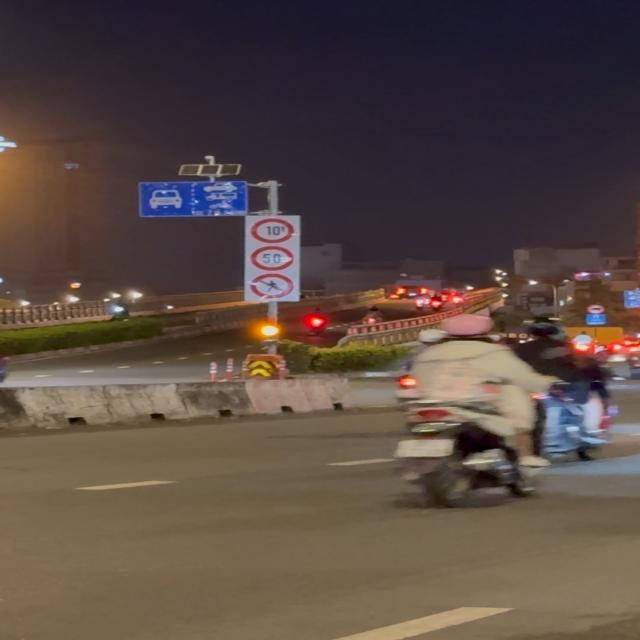Bien bao cam nguoi di bo: (249, 273, 296, 298)
Bien bao toc do toi da cho phep: (250, 245, 297, 272)
